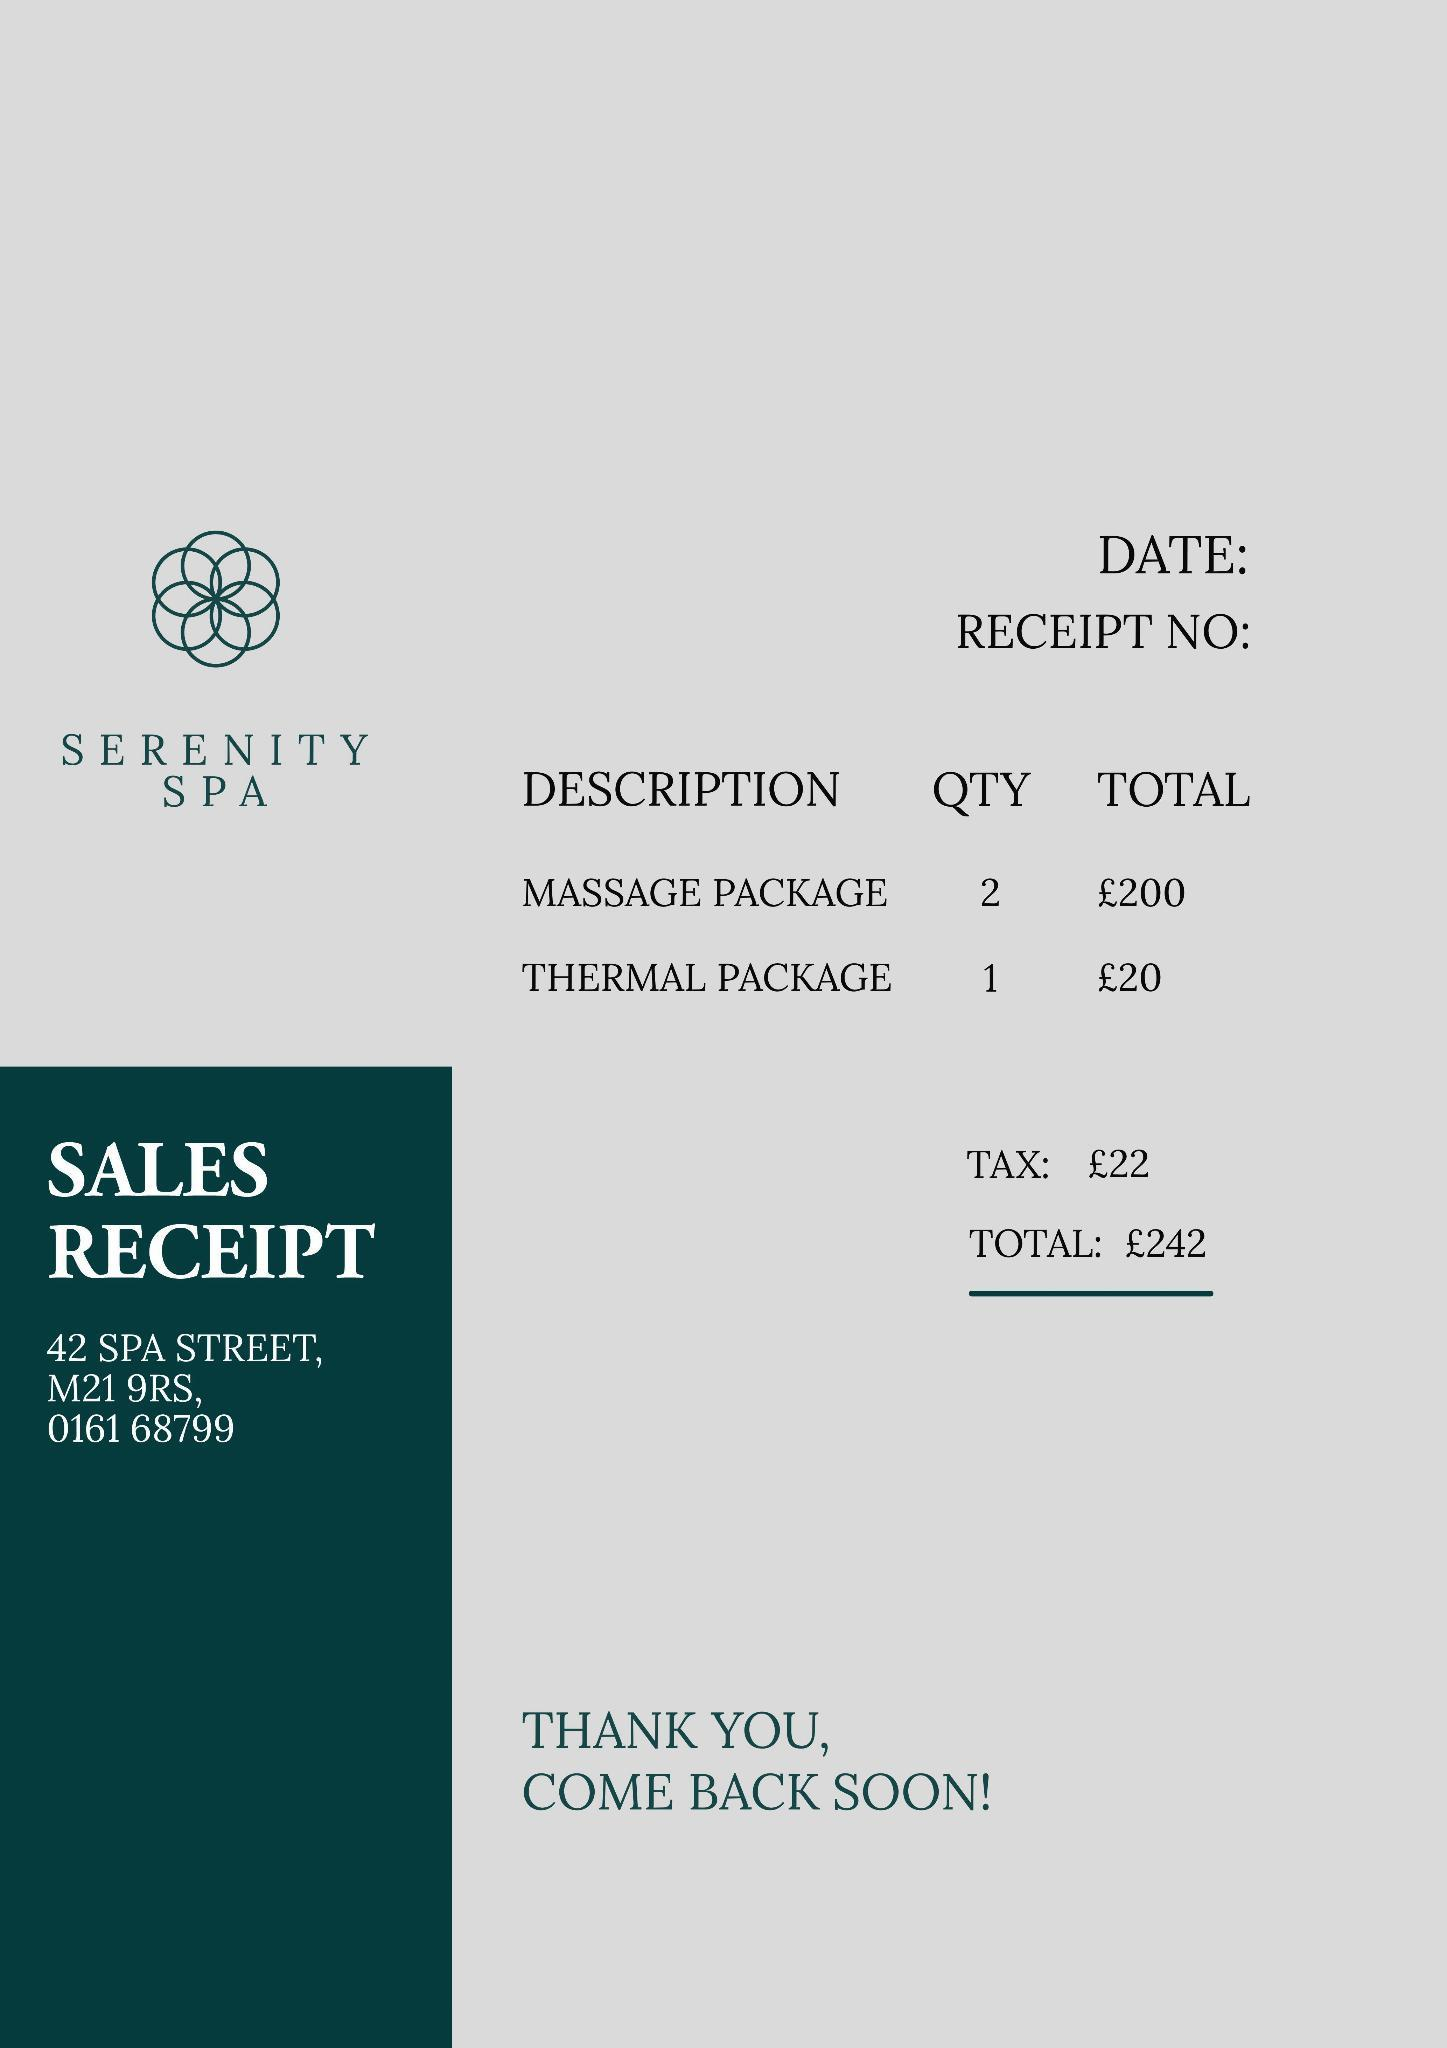ROI: (511, 758, 1298, 1021), (511, 1693, 1001, 1843), (30, 1137, 413, 1293), (947, 1112, 1245, 1301), (957, 528, 1290, 669), (47, 719, 385, 836), (49, 1325, 323, 1451)
